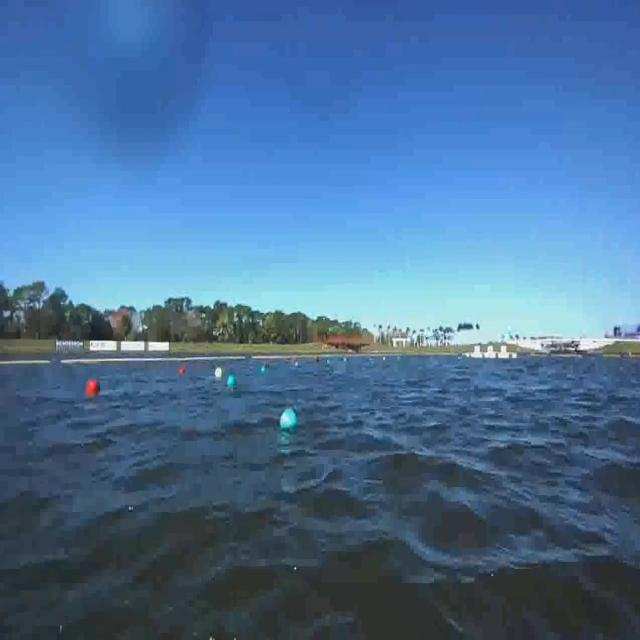green-buoy: (280, 408, 298, 433), (226, 372, 236, 386)
red-buoy: (85, 377, 101, 397)
